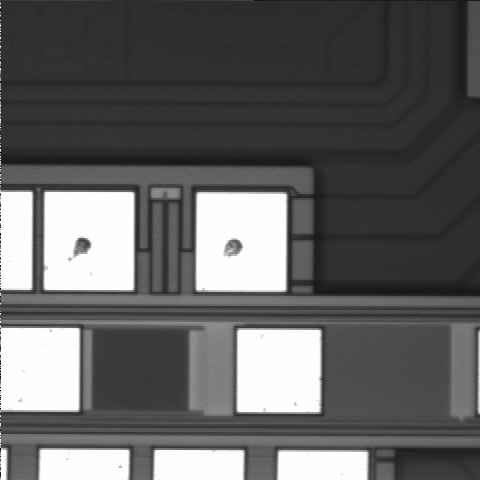pad: (196, 192, 286, 292), (44, 192, 134, 290), (237, 330, 321, 412)
